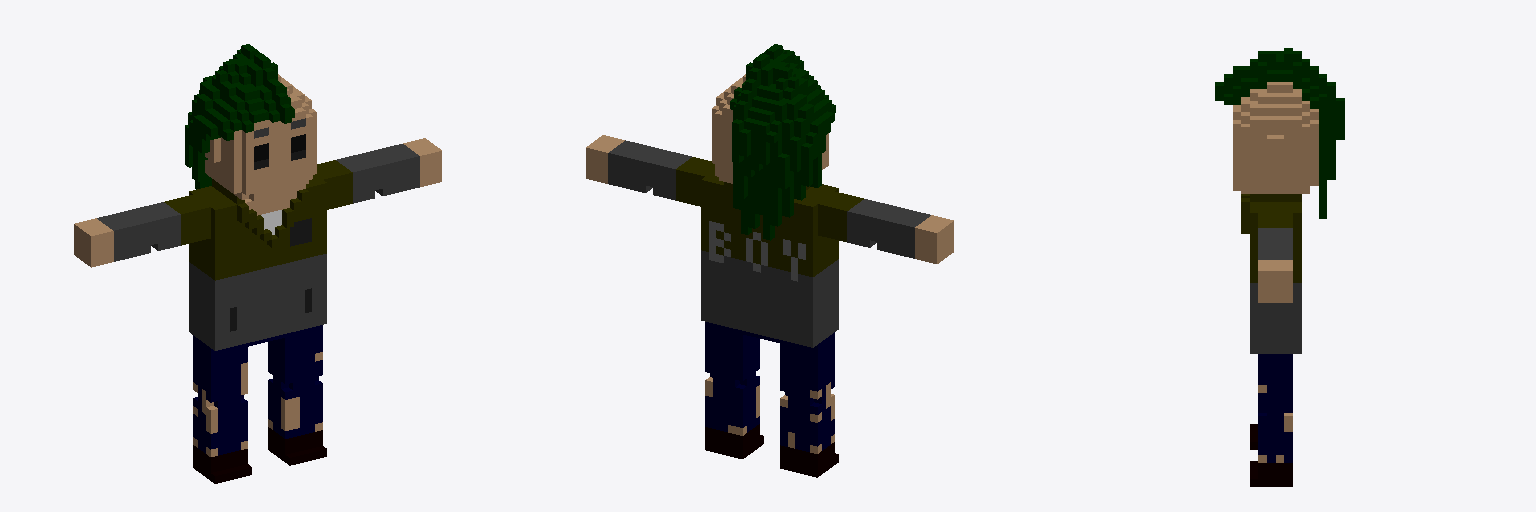
3 renders of one model, left to right at view 1: azimuth 30°, elevation 25°; view 2: azimuth 150°, elevation 25°; view 3: azimuth 270°, elevation 25°, orthographic.
Visible parts, largest first — view 1: object 1; view 2: object 1; view 3: object 1.
Part boxes in pixels (x1,y1,x2,y2): object 1: (74,44,441,483); object 1: (586,44,953,477); object 1: (1215,48,1344,486).
Bounding box in the file's own units: 4.7 × 5.2 × 1.5.
1 materials, 1 textured.